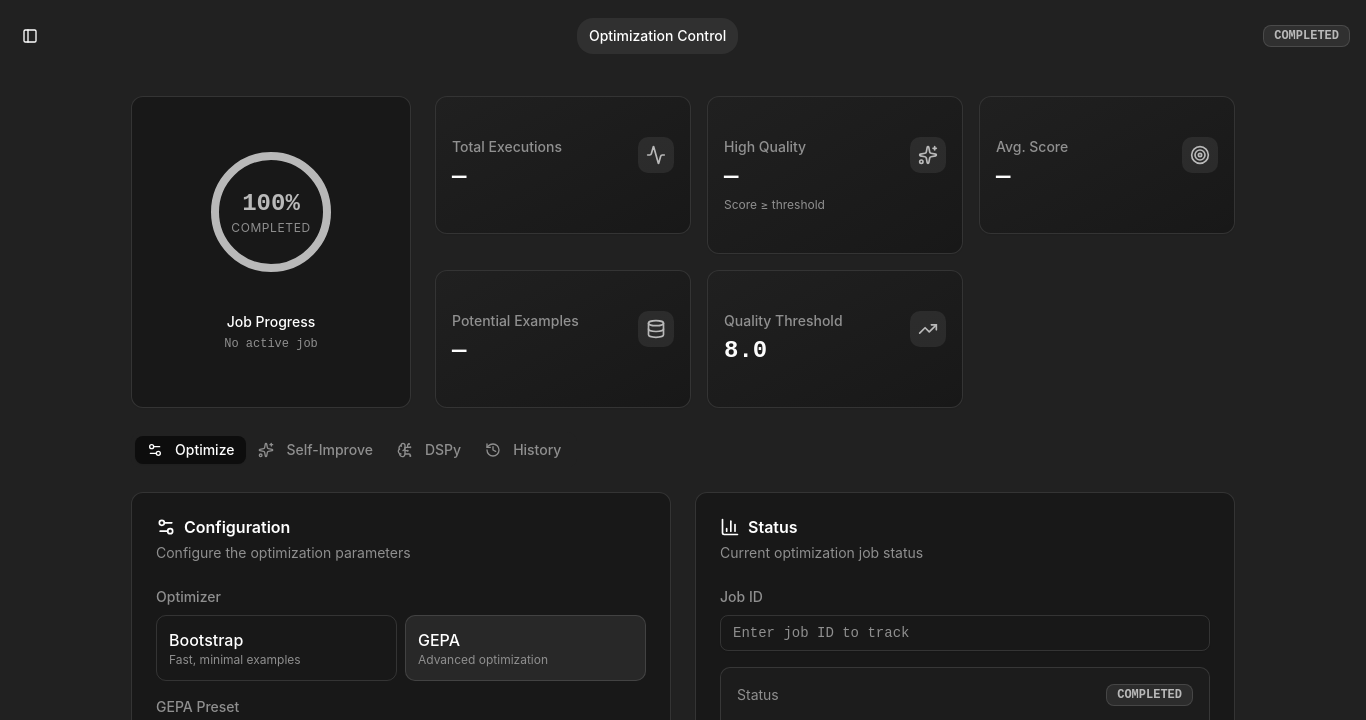
Test: OptimizationDashboard › renders history loading state
Click the History tab to see the loading state
Click the tab "History". click: coordinates (523, 450)
box: x1=473 y1=436 x2=573 y2=464
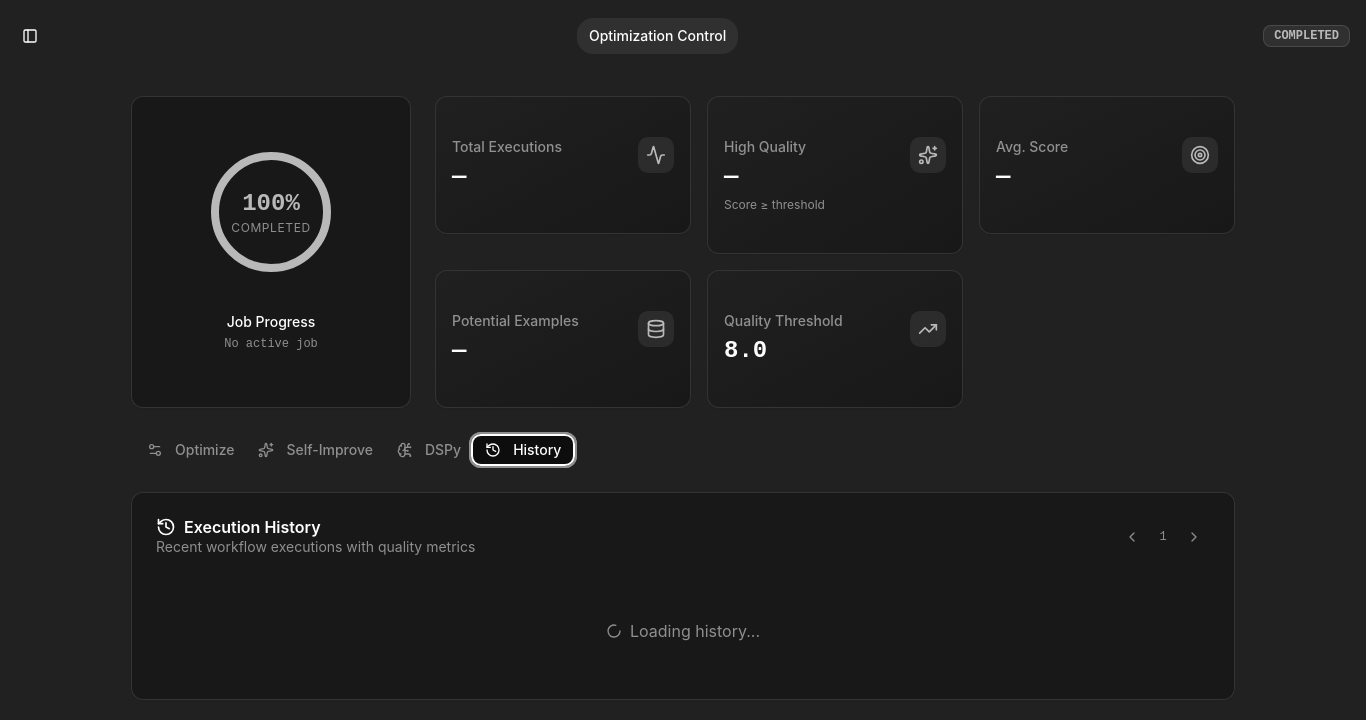
Now the text "Loading history..." is shown, box x1=606 y1=621 x2=760 y2=641
